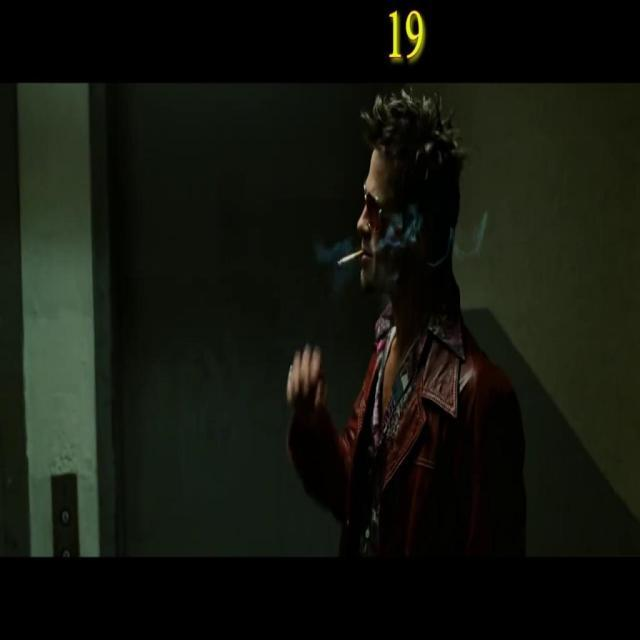smoking: (336, 248, 365, 266)
